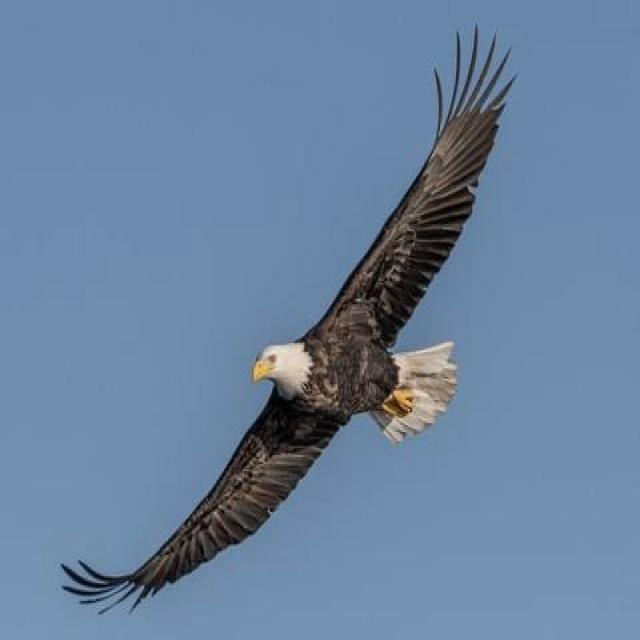eagle: (64, 27, 513, 606)
